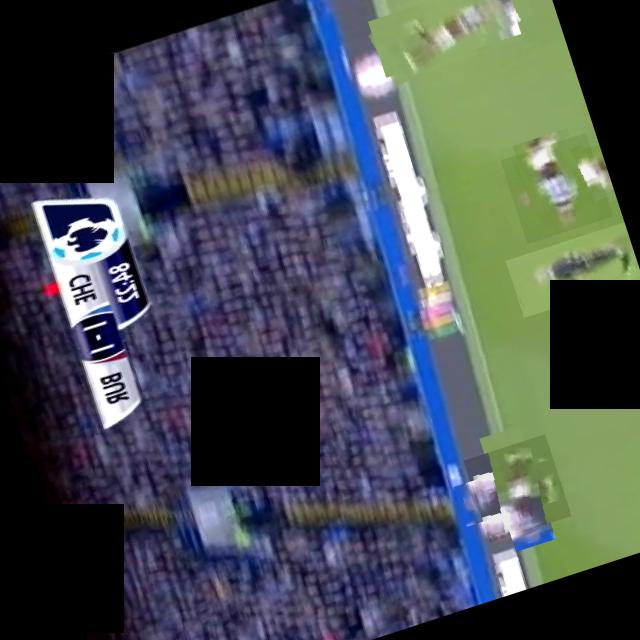referee: (505, 222, 640, 318)
soccer-player: (363, 0, 524, 84), (500, 133, 612, 245), (462, 434, 570, 542)
